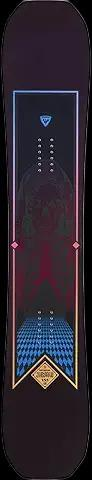Snowboard: (2, 0, 87, 479)
